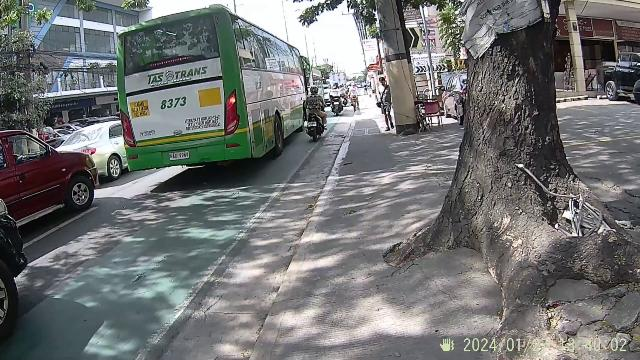tree: (430, 0, 626, 310)
utility_post: (369, 2, 433, 140)
